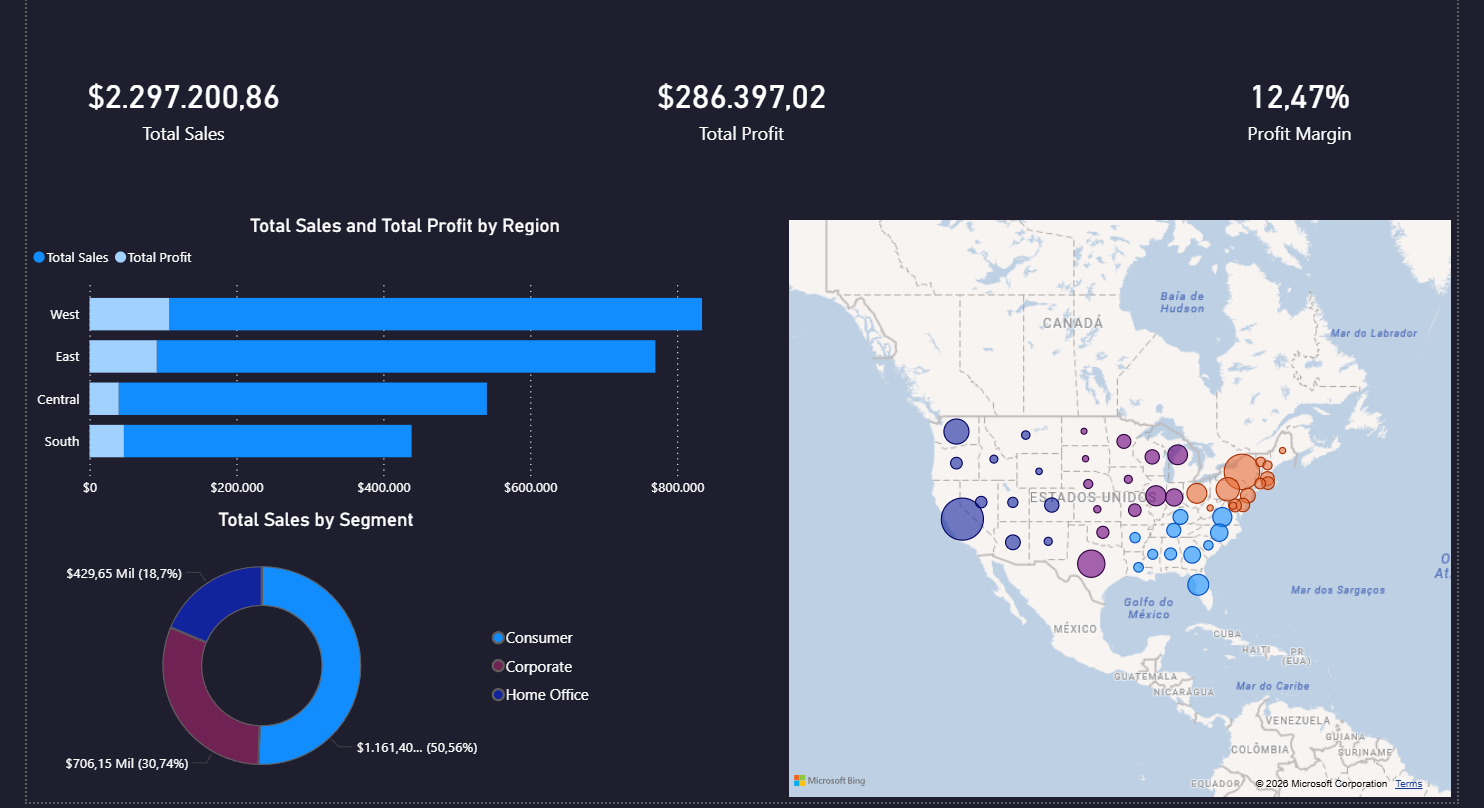

What the dashboard file says about the page in this screenshot:
{"tool":"powerbi","page":{"name":"Regional Analysis","canvas":[1280,720],"ordinal":2},"visuals":[{"type":"card","fields":{"Values":["_Measures.Total Sales"]},"box":[0,0,280.3,193.4],"z":0},{"type":"card","fields":{"Values":["_Measures.Total Profit"]},"box":[499.7,0,280.3,193.4],"z":1000},{"type":"card","fields":{"Values":["_Measures.Profit Margin"]},"box":[999.4,0,280.3,193.4],"z":2000},{"type":"barChart","title":"Total Sales and Total Profit by Region","fields":{"Category":["dLocation.Region"],"Y":["_Measures.Total Sales","_Measures.Total Profit"]},"box":[0,193.4,677,263.3],"z":3000},{"type":"map","fields":{"Category":["dLocation.State"],"Size":["_Measures.Total Sales"],"Series":["dLocation.Region"]},"box":[677,193.4,602.7,526.6],"z":4000},{"type":"donutChart","title":"Total Sales by Segment","fields":{"Category":["dCustomers.Segment"],"Y":["_Measures.Total Sales"]},"box":[0,456.7,517.6,263.3],"z":5000}]}

Visuals, with their boxes on the page's 1280x720 design canvas (x1, y1, x2, y2). These are canvas units, not pixel positions in the 1484x808 screenshot, which may show the page scaled, cropped or inside an application window:
card - _Measures.Total Sales: 0, 0, 280, 193
card - _Measures.Total Profit: 500, 0, 780, 193
card - _Measures.Profit Margin: 999, 0, 1280, 193
"Total Sales and Total Profit by Region" barChart: 0, 193, 677, 457
map - dLocation.State x _Measures.Total Sales: 677, 193, 1280, 720
"Total Sales by Segment" donutChart: 0, 457, 518, 720
